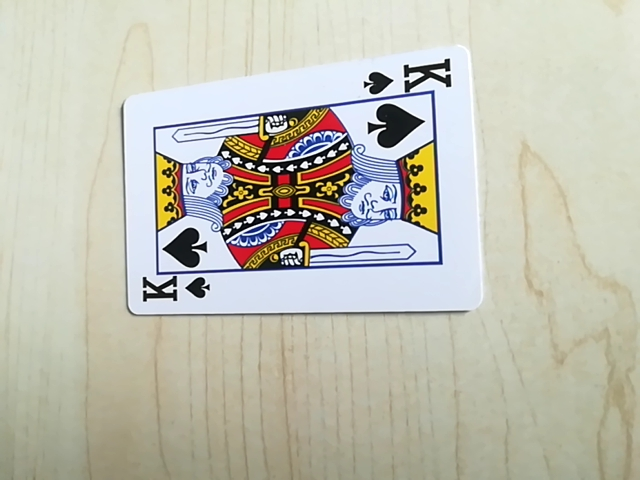ht k: (359, 55, 460, 98), (135, 270, 214, 310)
